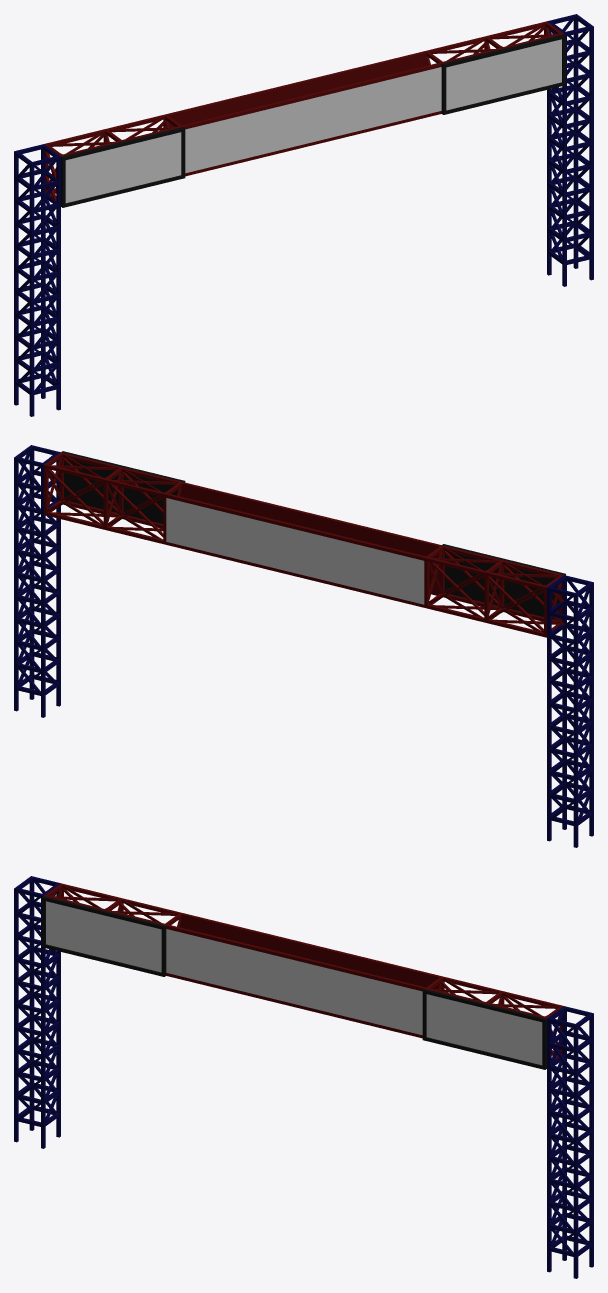
File: start.obj
3 views of the same model, one above another, from view 1: azimuth 30°, elevation 25°; view 2: azimuth 150°, elevation 25°; view 3: azimuth 330°, elevation 25° (orthographic).
Parts seen in each view (by area): view 1: Starting_Line; view 2: Starting_Line; view 3: Starting_Line.
Boxes of the visible parts, x1,y1,x2,y2 form: Starting_Line: (14, 14, 593, 416); Starting_Line: (14, 445, 593, 847); Starting_Line: (14, 876, 593, 1278).
Size of the model in its own units: 9.43 by 4.05 by 0.551.
